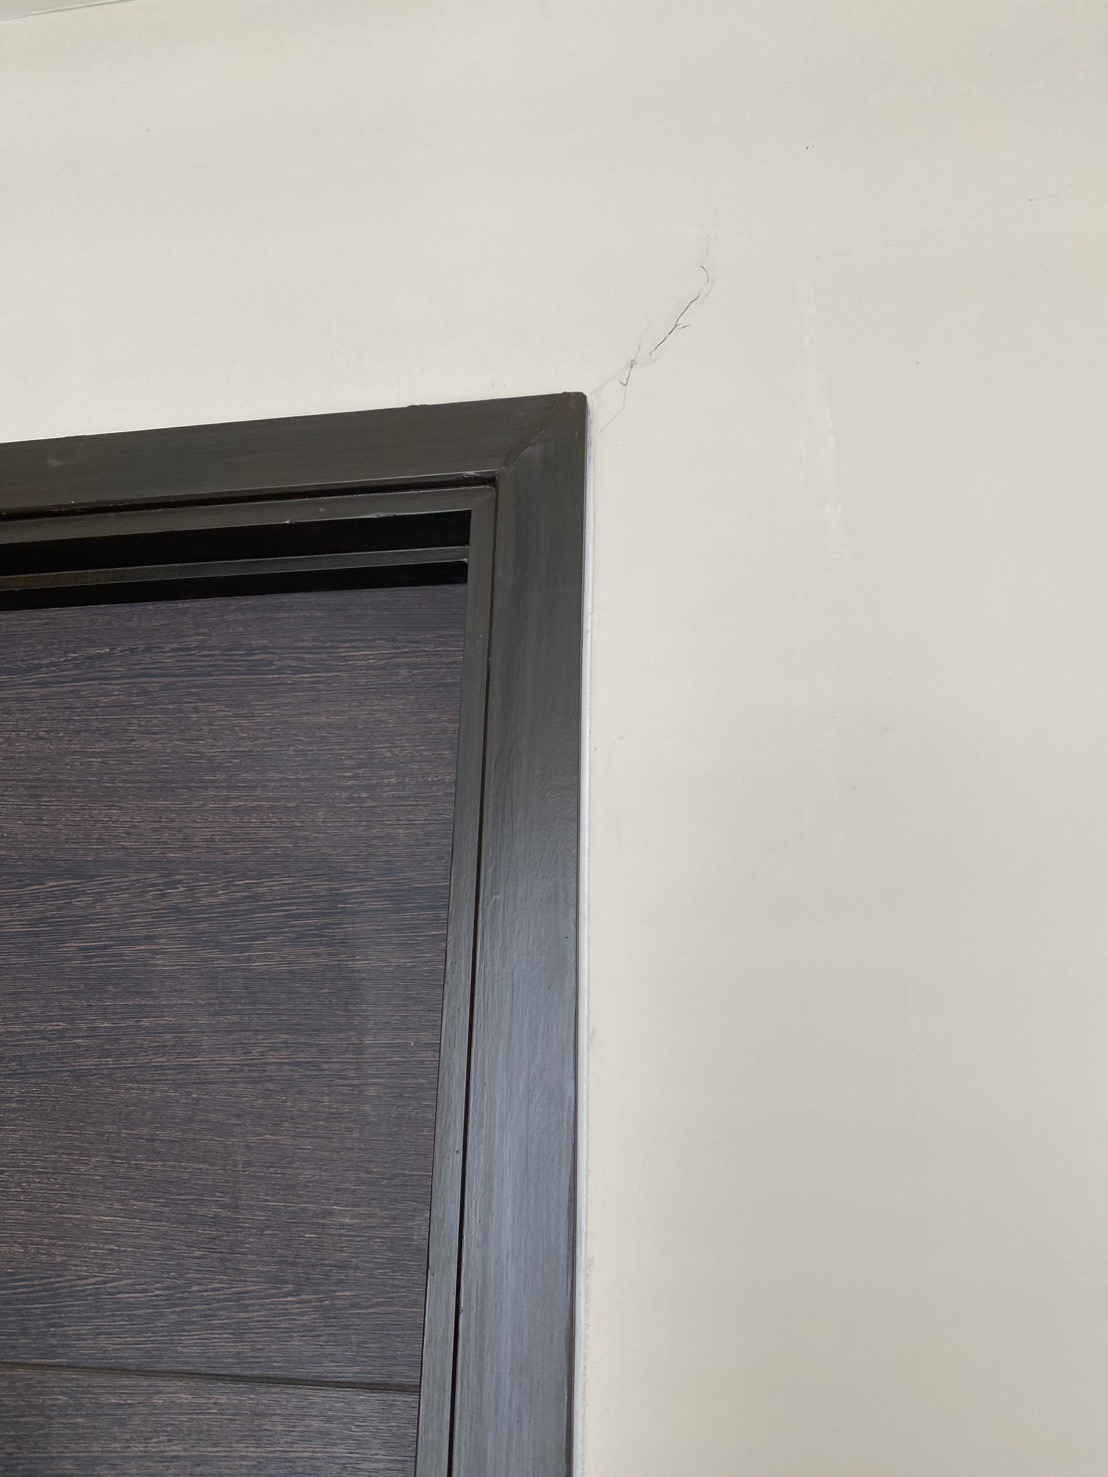Low: (559, 158, 772, 453)
